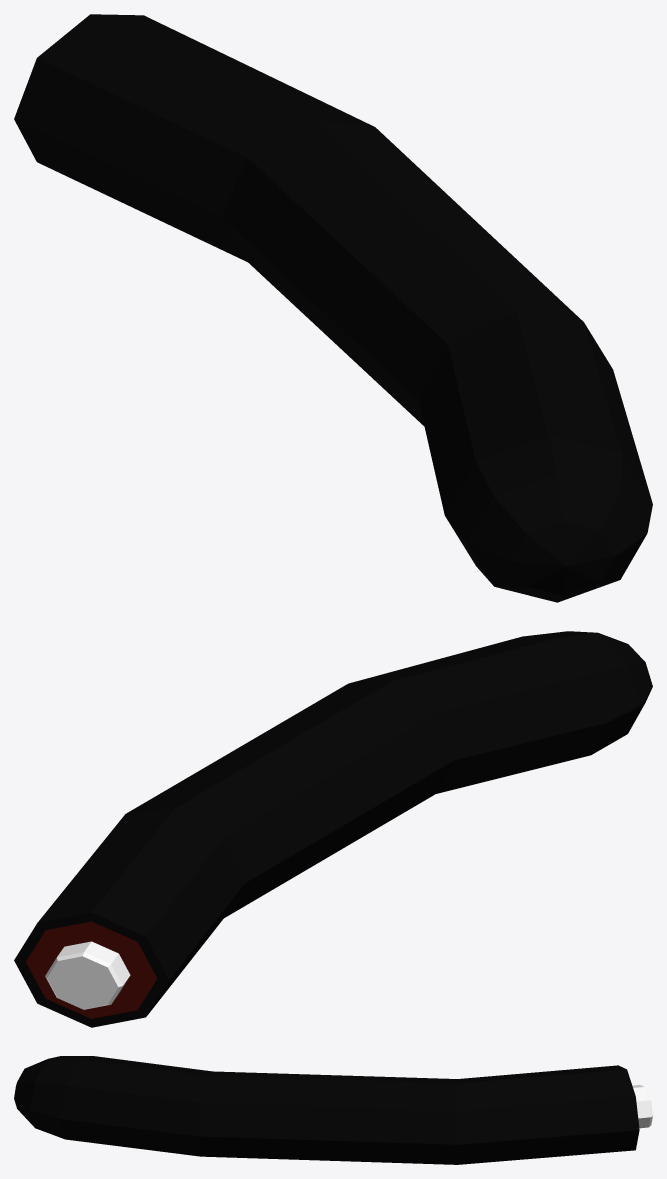
The model's file is BlackCatTail.fbx.
3 renders of one model, top to bottom at view 1: azimuth 30°, elevation 25°; view 2: azimuth 150°, elevation 25°; view 3: azimuth 270°, elevation 25°, orthographic. The views are drawn at different scales.
Parts seen in each view (by area): view 1: Black cat Tail; view 2: Black cat Tail; view 3: Black cat Tail.
Part boxes in pixels (x1,y1,x2,y2): Black cat Tail: (14,14,652,602); Black cat Tail: (14,631,652,1027); Black cat Tail: (14,1056,652,1164).
Bounding box in the file's own units: 354 × 177 × 1207.
